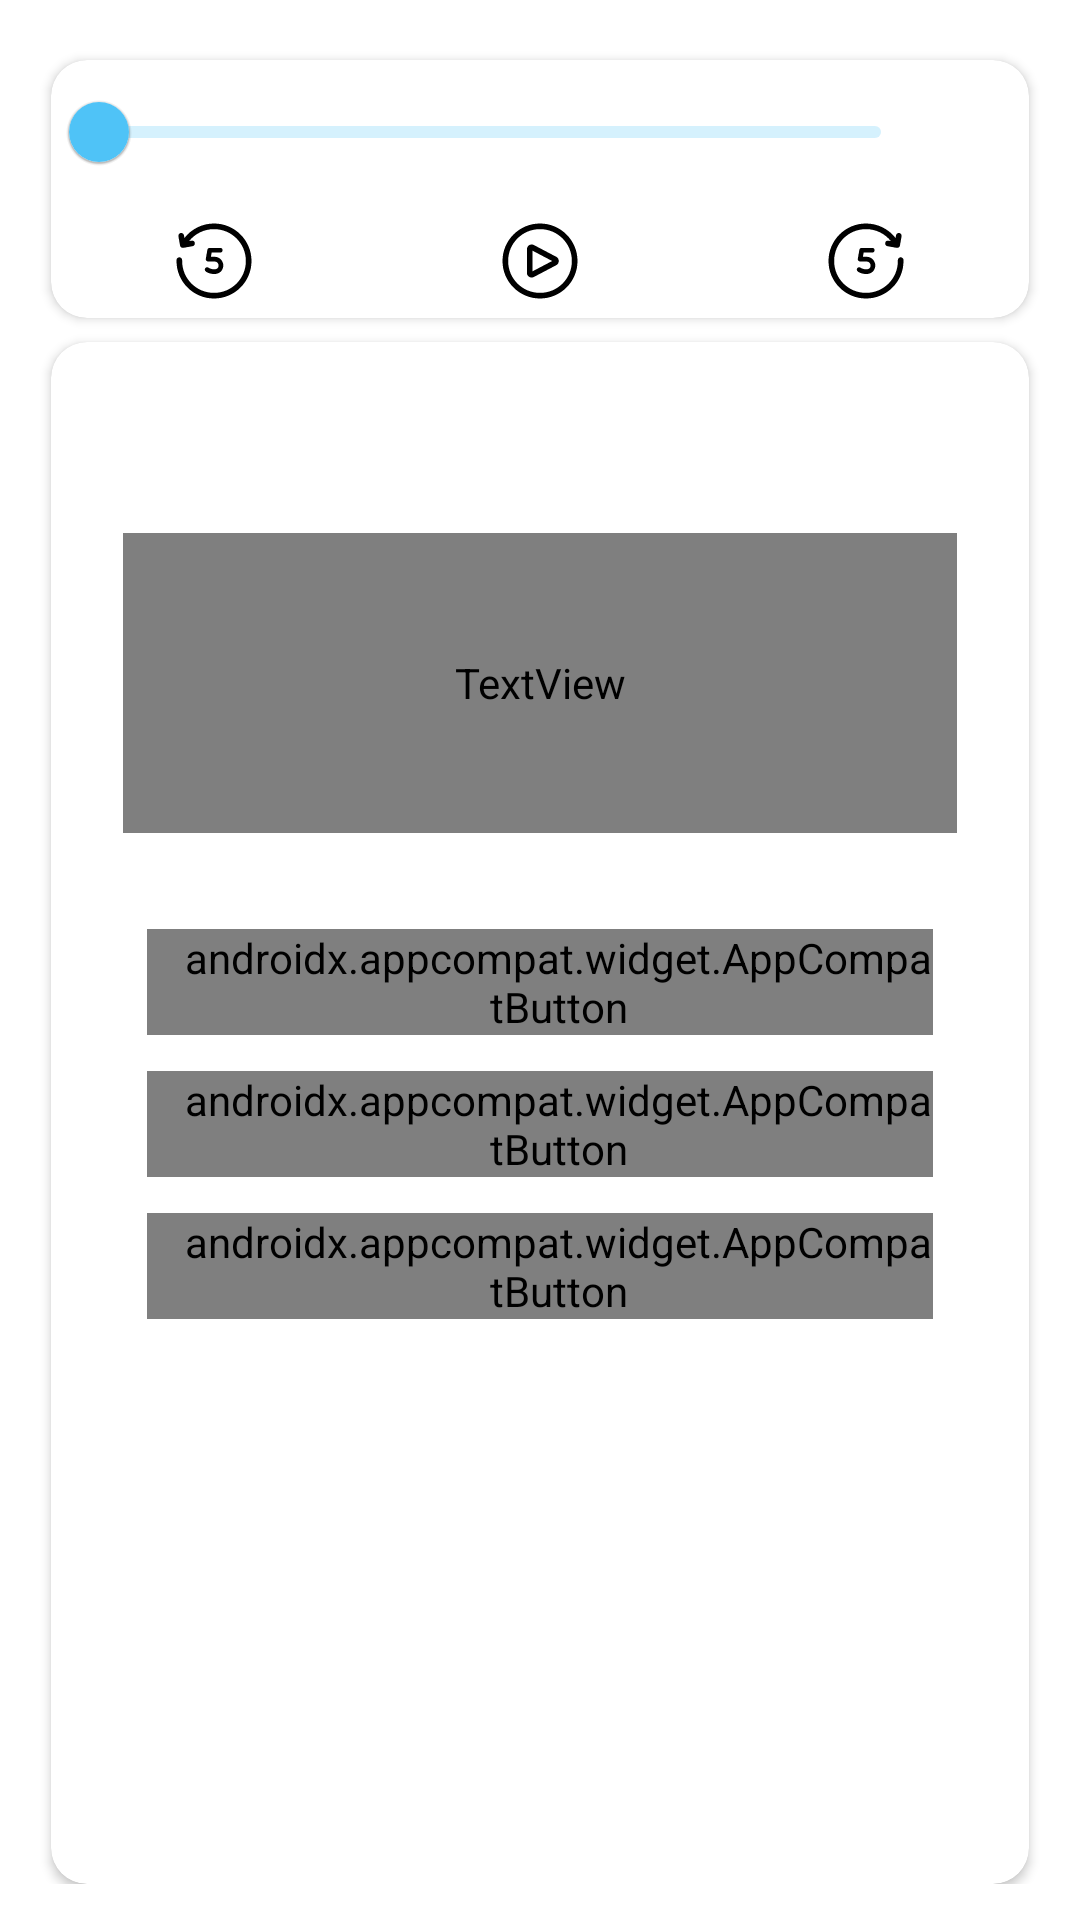

Where icons sit on this 1080x1920 app screen, as [x1=x1, y1=y1, x2=x2, y2=y2]:
backward: [x1=176, y1=223, x2=252, y2=299]
forward: [x1=828, y1=223, x2=904, y2=299]
play: [x1=502, y1=223, x2=578, y2=299]
